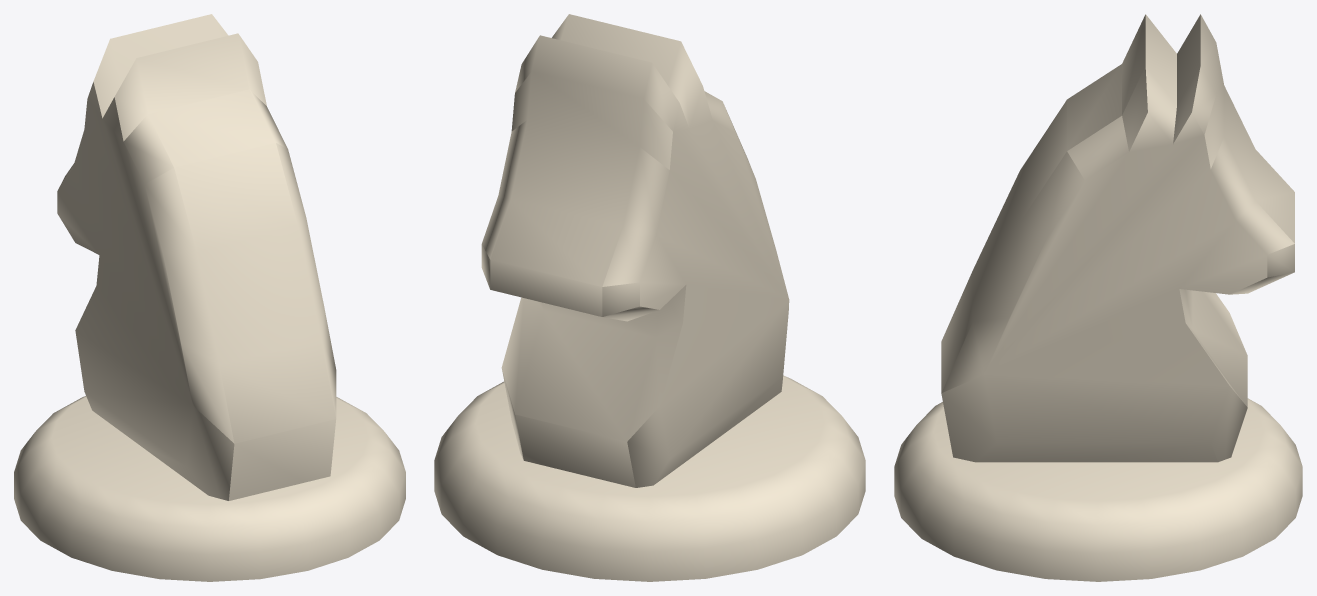
File: white_knight.glb
The picture shows the model from 3 angles, left to right: view 1: azimuth 30°, elevation 25°; view 2: azimuth 150°, elevation 25°; view 3: azimuth 270°, elevation 25°; orthographic projection. The views are drawn at different scales.
Visible parts, largest first — view 1: white_knight; view 2: white_knight; view 3: white_knight.
Part boxes in pixels (box(x1,y1,x2,y2)): white_knight: box(14, 14, 405, 581); white_knight: box(434, 14, 865, 581); white_knight: box(894, 14, 1302, 581).
Size of the model in its own units: 0.026 by 0.032 by 0.026.
